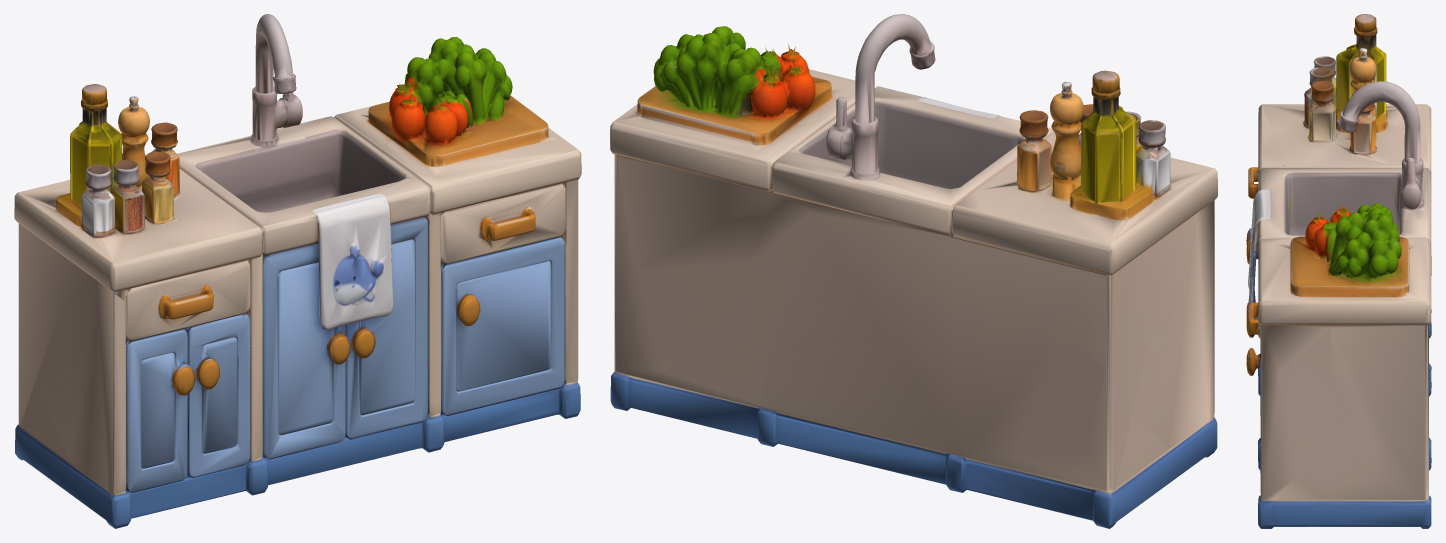
The model's file is sink-cabinet.glb.
3 views of the same model, side by side, from view 1: azimuth 30°, elevation 25°; view 2: azimuth 150°, elevation 25°; view 3: azimuth 270°, elevation 25° (orthographic). The views are drawn at different scales.
Visible parts, largest first — view 1: 水槽柜静态总成; view 2: 水槽柜静态总成; view 3: 水槽柜静态总成.
Boxes of the visible parts, bbox=[...] form: 水槽柜静态总成: bbox=[14, 14, 581, 528]; 水槽柜静态总成: bbox=[610, 14, 1217, 528]; 水槽柜静态总成: bbox=[1246, 14, 1431, 528].
Bounding box in the file's own units: 1.65 × 1.35 × 0.65.
1 material, 1 textured.
